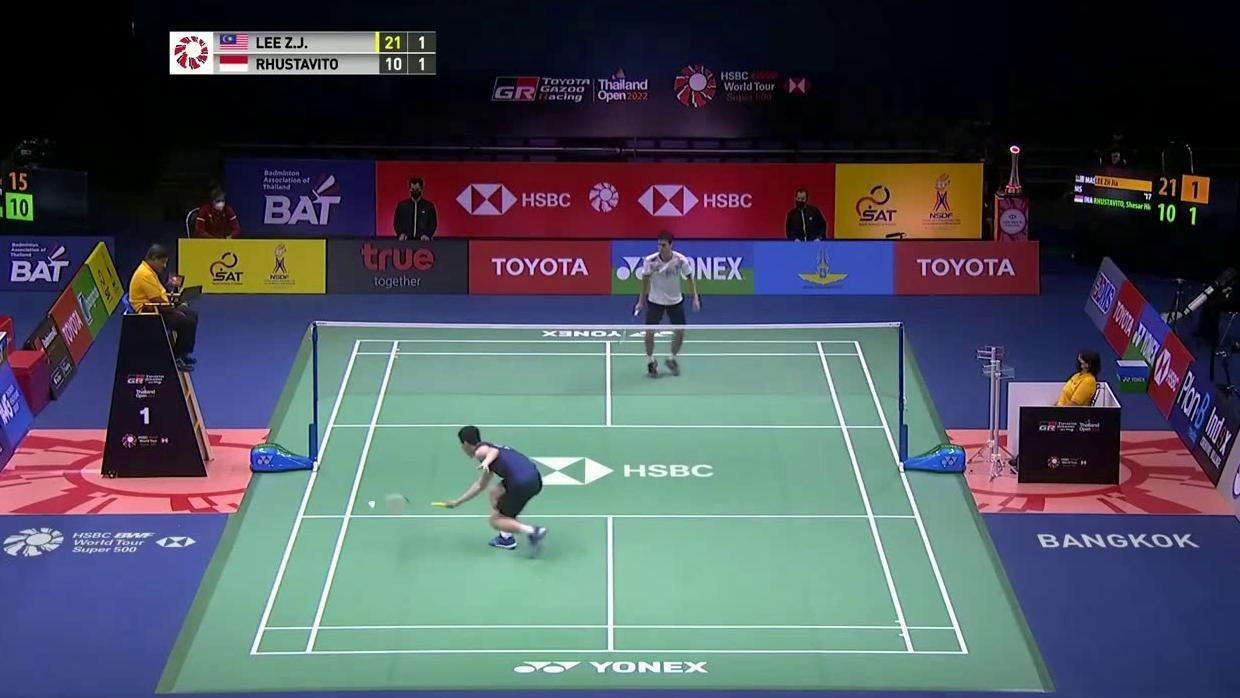racket: (384, 492, 457, 514), (617, 304, 645, 347)
shuttle: (368, 500, 376, 509)
